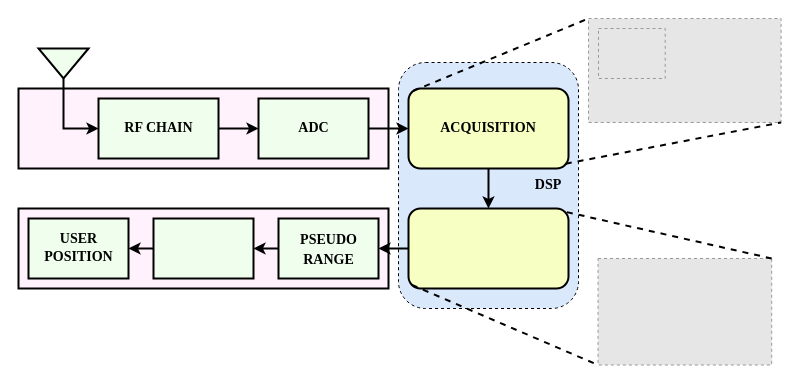
The diagram is 800 pixels wide and 384 high, and some of its shapes have lost their labels. Grey dashed boxes stand in for pictures. Each missing label, with the box of its shape:
SATELLITE POSITION: (152, 217, 254, 279)
TRACKING: (407, 207, 569, 289)
